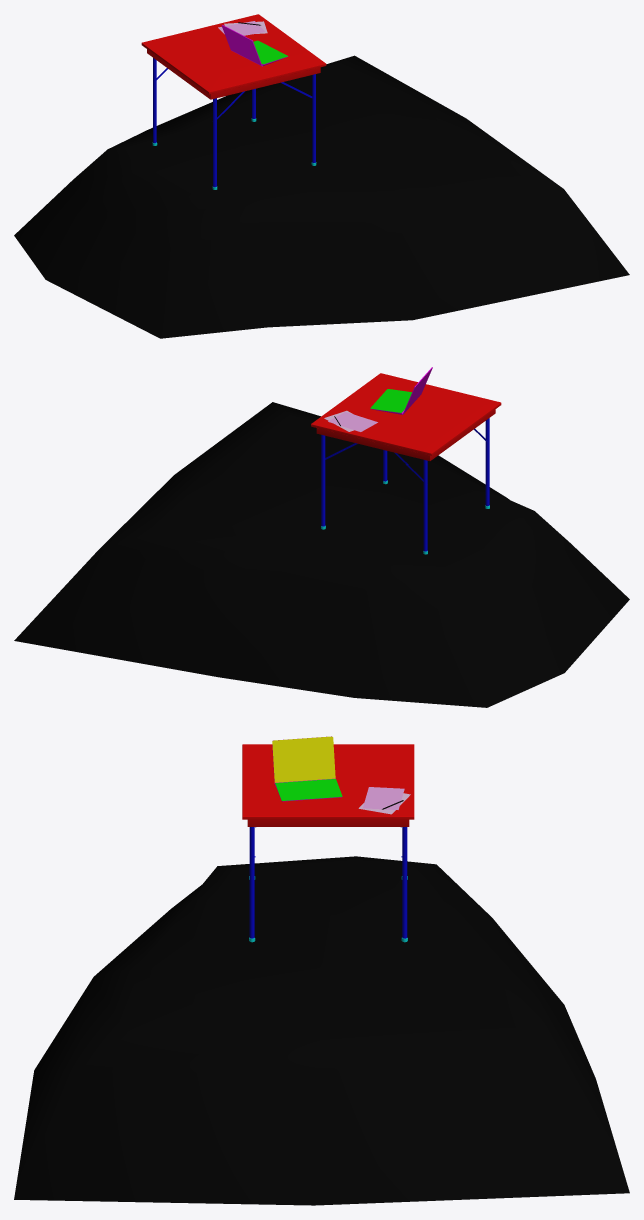
The model's file is Marshal_Table_00.fbx.
3 renders of one model, top to bottom at view 1: azimuth 30°, elevation 25°; view 2: azimuth 150°, elevation 25°; view 3: azimuth 270°, elevation 25°, orthographic. The views are drawn at different scales.
Parts seen in each view (by area): view 1: Marshall_Table_00; view 2: Marshall_Table_00; view 3: Marshall_Table_00.
Boxes of the visible parts, x1,y1,x2,y2 form: Marshall_Table_00: (14, 14, 629, 338); Marshall_Table_00: (14, 367, 629, 707); Marshall_Table_00: (14, 736, 629, 1205).
Size of the model in its own units: 3.85 by 1.85 by 3.58.
